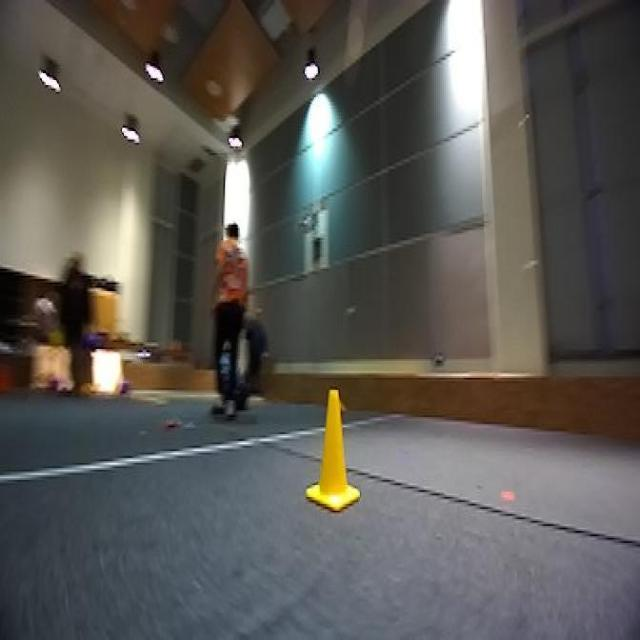frc_cone: (308, 388, 360, 507)
